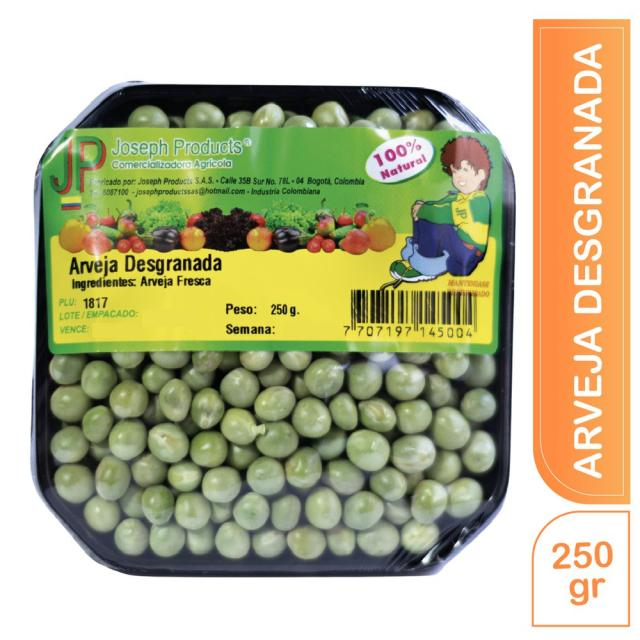arvejas: (46, 356, 503, 574)
